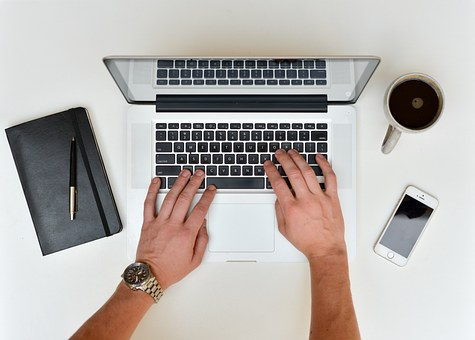mobile: (372, 182, 447, 279)
